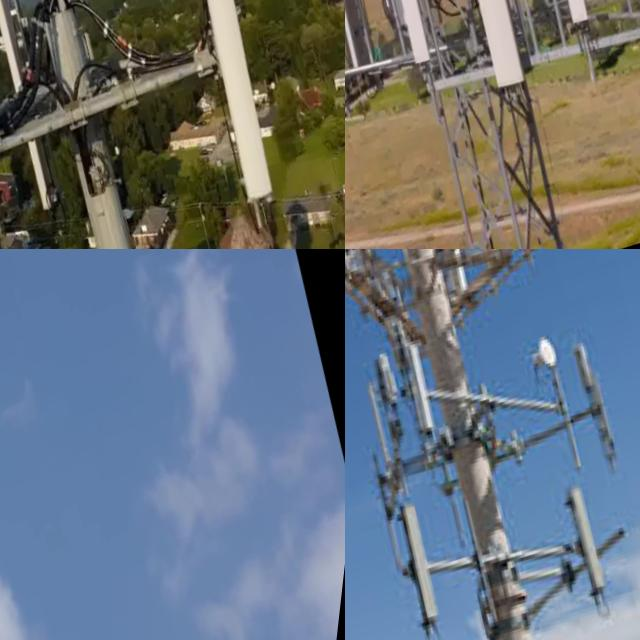GSM Antenna: (0, 0, 97, 217), (214, 0, 292, 209), (411, 0, 573, 100), (389, 494, 470, 624), (567, 331, 640, 466), (562, 474, 632, 597), (355, 0, 468, 75), (396, 330, 461, 443), (27, 0, 101, 43)
Microwave Antenna: (522, 324, 580, 384)
